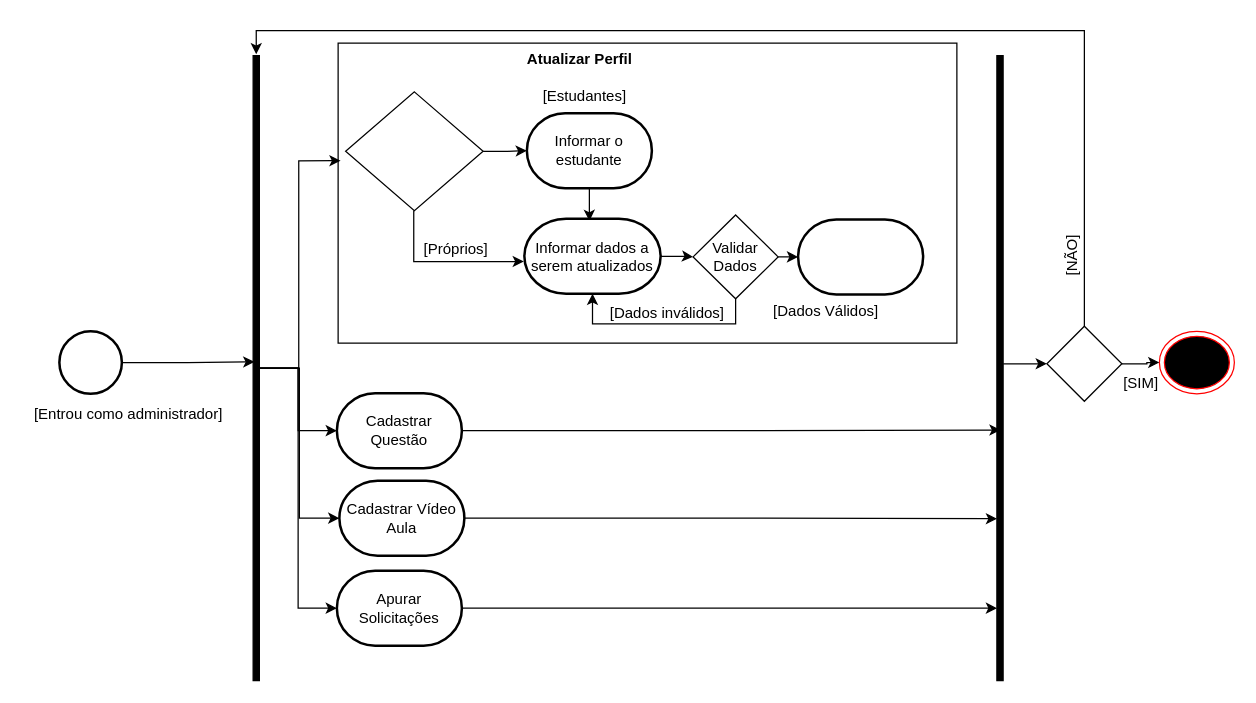
Image size: 1256x703. Some labels were removed from this diagram. Here are the shapes that lost their labels. From the top down, the centre of each, then its label:
At (x=413, y=151): "Dados próprios ou de estudantes?".
At (x=860, y=256): "Efetivar atualização dos dados".
At (x=1084, y=363): "Sair?".
